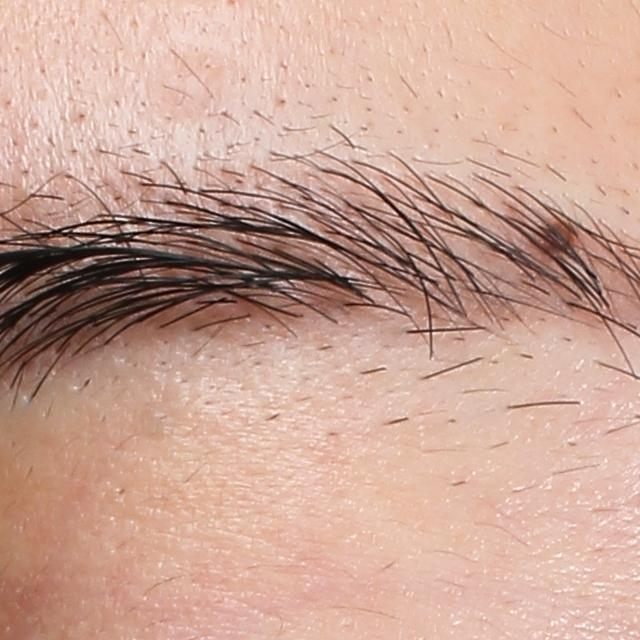nevus: (540, 211, 571, 261)
